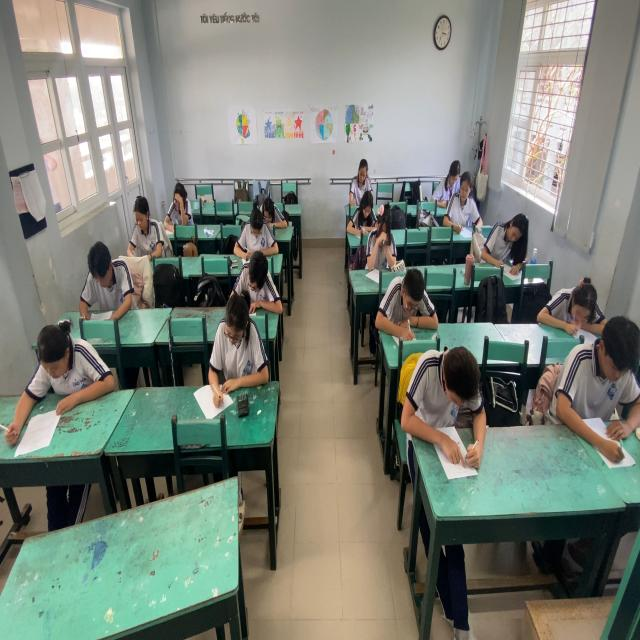not_cheating: (558, 315, 640, 444), (26, 322, 114, 419), (405, 347, 485, 447), (374, 268, 445, 336), (80, 239, 133, 326), (220, 294, 265, 384), (483, 206, 535, 270), (238, 243, 284, 315), (123, 188, 164, 264), (541, 277, 600, 329), (368, 198, 399, 274), (238, 201, 273, 257), (162, 181, 199, 229), (344, 188, 380, 236), (254, 191, 288, 236), (344, 153, 374, 202), (453, 174, 477, 229), (434, 156, 461, 202)
